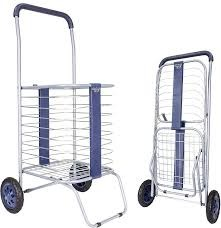with_basket: (1, 2, 127, 224)
